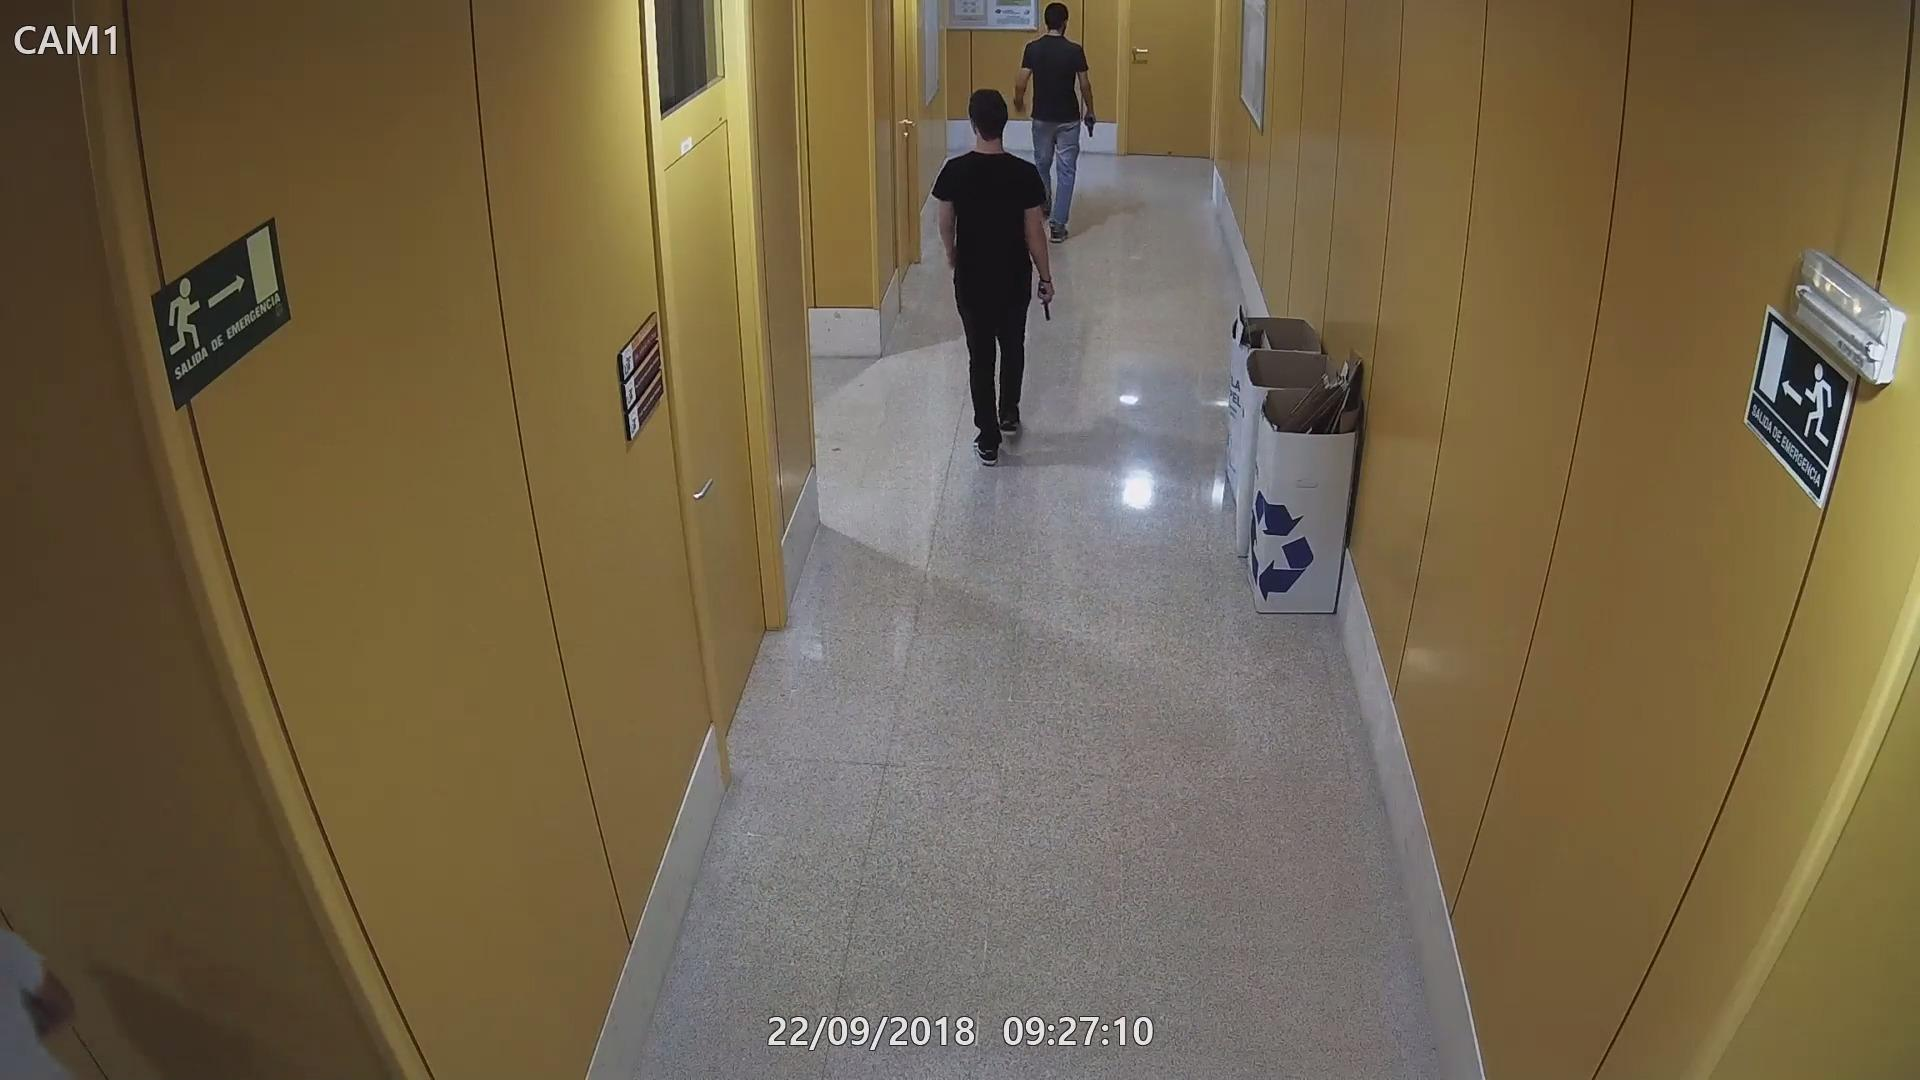Handgun: (1033, 277, 1059, 322), (1076, 105, 1102, 136)
